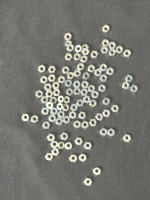nut: (84, 178, 93, 187), (47, 134, 56, 142), (100, 128, 108, 137), (31, 115, 39, 124), (40, 76, 49, 84), (94, 168, 102, 176), (79, 154, 87, 162), (52, 149, 60, 157), (58, 142, 66, 150), (61, 133, 69, 141), (75, 138, 83, 146), (108, 129, 116, 137), (124, 135, 132, 143), (22, 114, 30, 122), (112, 105, 120, 113), (90, 119, 98, 127), (82, 121, 90, 129), (63, 116, 71, 124), (56, 118, 64, 126), (49, 115, 57, 123), (79, 112, 87, 120), (58, 111, 66, 119), (71, 104, 79, 112), (92, 91, 100, 99), (74, 88, 82, 96), (88, 85, 96, 93), (99, 85, 107, 93), (82, 81, 90, 89), (58, 76, 66, 84), (38, 65, 46, 73), (83, 72, 91, 80), (95, 69, 103, 77), (131, 85, 139, 93), (126, 75, 134, 83), (100, 64, 108, 72), (88, 65, 96, 73), (65, 33, 73, 41), (75, 45, 83, 53), (124, 50, 132, 58), (116, 46, 124, 54), (69, 156, 78, 163), (84, 143, 93, 150), (48, 66, 57, 73), (100, 75, 109, 82), (46, 154, 54, 161), (51, 141, 58, 149), (65, 143, 73, 150), (43, 122, 51, 129), (103, 110, 111, 117), (96, 114, 104, 121), (74, 121, 81, 129), (103, 98, 111, 105), (42, 108, 50, 115), (90, 100, 97, 108), (84, 96, 91, 104), (47, 102, 54, 110), (57, 103, 64, 111), (63, 104, 70, 112), (77, 100, 85, 107), (64, 96, 71, 104), (50, 97, 58, 104), (41, 97, 49, 104), (36, 91, 44, 98), (46, 91, 54, 98), (53, 89, 61, 96), (67, 88, 74, 96), (81, 89, 89, 96), (44, 84, 52, 91), (74, 81, 82, 88), (65, 80, 73, 87), (48, 75, 56, 82), (62, 67, 70, 74), (68, 72, 75, 80), (74, 70, 82, 77), (123, 82, 130, 90), (107, 68, 114, 76), (77, 64, 85, 71), (81, 56, 89, 63), (74, 53, 81, 61), (65, 54, 73, 61), (82, 44, 89, 52), (91, 51, 99, 58), (101, 47, 109, 54), (109, 49, 117, 56), (103, 25, 110, 33), (109, 42, 117, 49), (102, 40, 110, 47), (70, 112, 77, 119), (51, 108, 58, 115), (58, 96, 65, 103), (53, 82, 60, 89), (67, 45, 74, 52), (82, 49, 90, 55), (65, 41, 72, 47)
